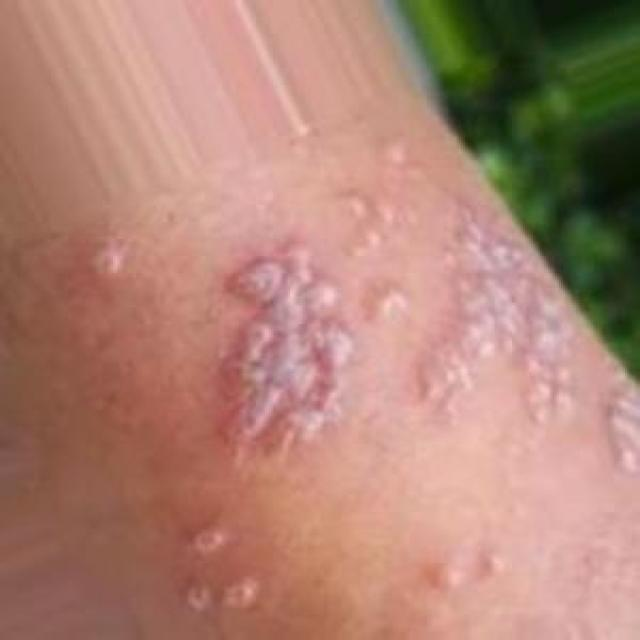Shingles: (357, 148, 571, 431), (218, 239, 358, 457), (176, 519, 268, 615), (595, 367, 640, 457), (86, 238, 130, 285)
